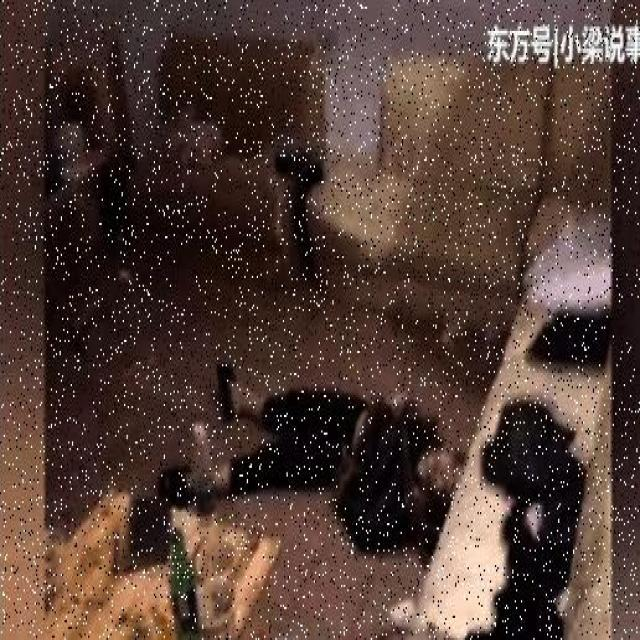fall: (205, 358, 458, 528)
